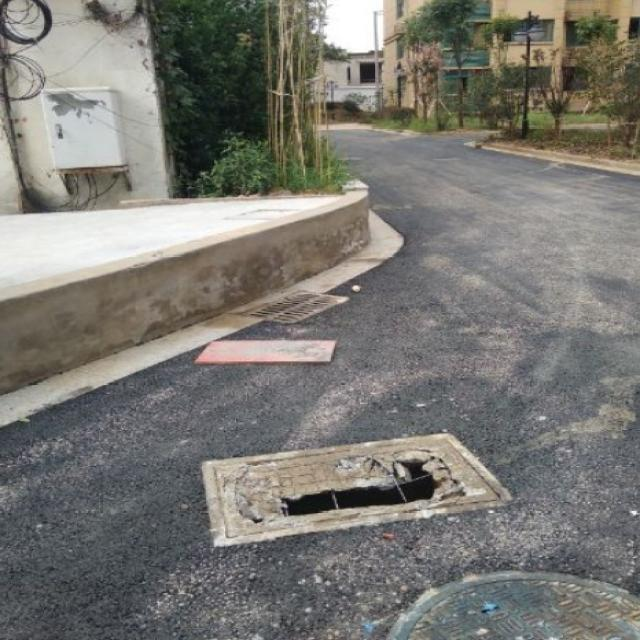Faulty: (177, 432, 542, 533)
Good: (364, 559, 640, 640)
